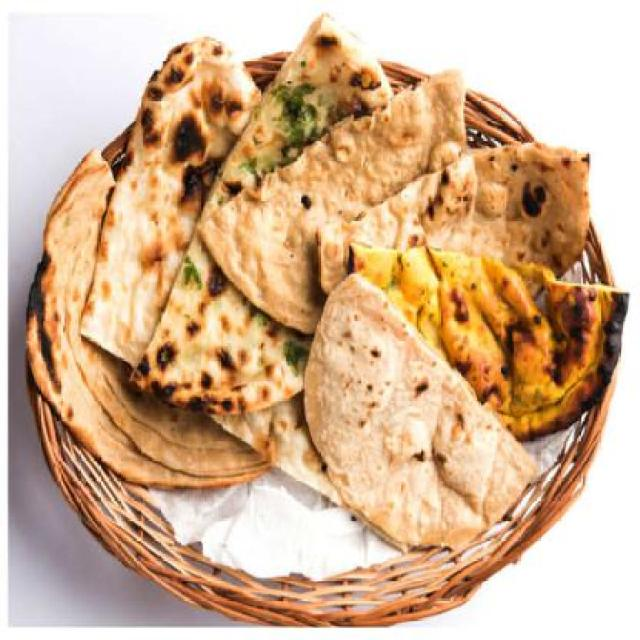chapati: (79, 38, 344, 507), (130, 14, 396, 420), (25, 152, 273, 490), (199, 66, 466, 334), (304, 274, 536, 549), (348, 241, 629, 442), (316, 142, 589, 298)
